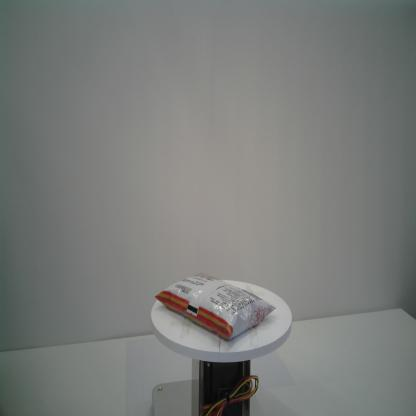Seasoner: (153, 270, 278, 343)
